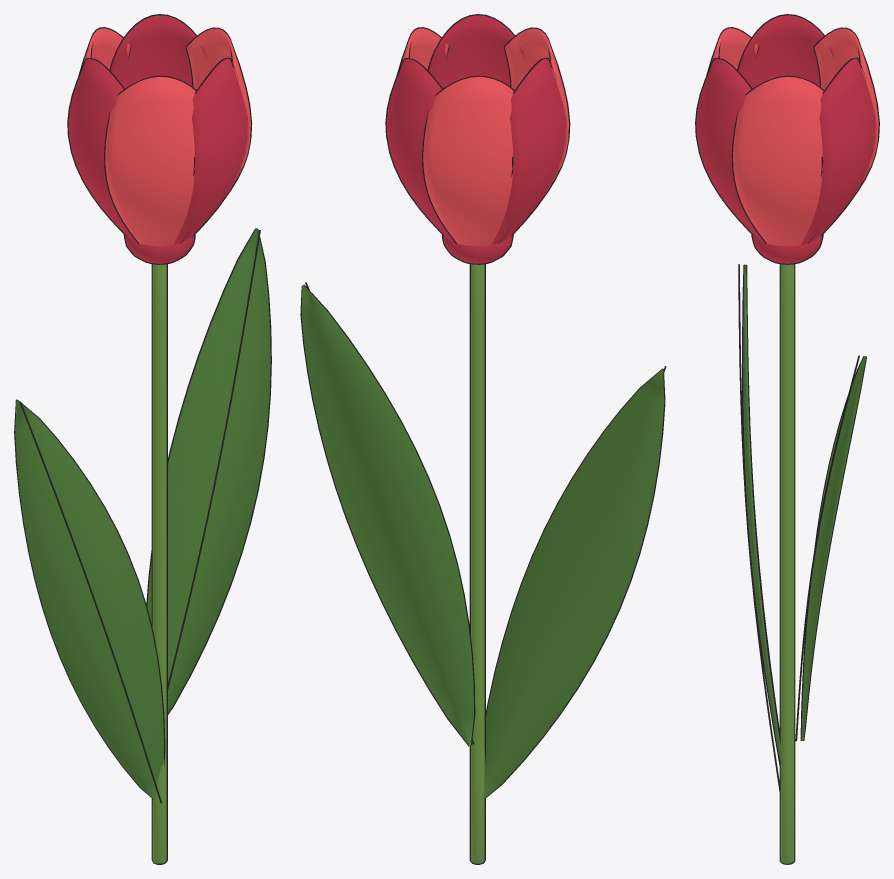
Rendered from tulip_red.glb.
The picture shows the model from 3 angles, left to right: view 1: azimuth 30°, elevation 25°; view 2: azimuth 150°, elevation 25°; view 3: azimuth 270°, elevation 25°; orthographic projection.
Visible parts, largest first — view 1: tulip_Geometry; view 2: tulip_Geometry; view 3: tulip_Geometry.
Part boxes in pixels (x1,y1,x2,y2): tulip_Geometry: (14,14,271,864); tulip_Geometry: (300,14,666,864); tulip_Geometry: (695,14,879,864).
Size of the model in its own units: 0.2024 by 0.5152 by 0.1055.
